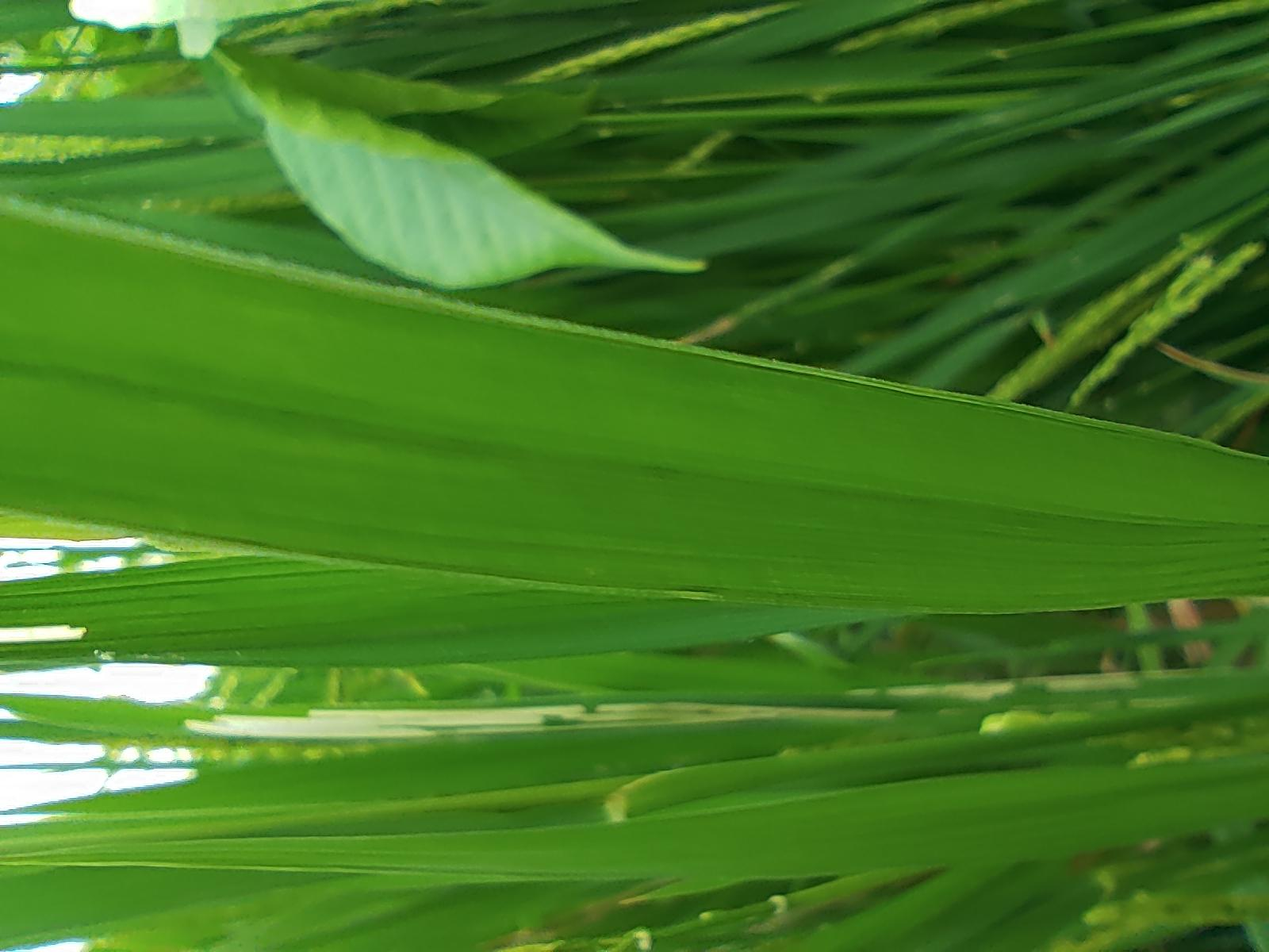Healthy: (452, 0, 1007, 951)
